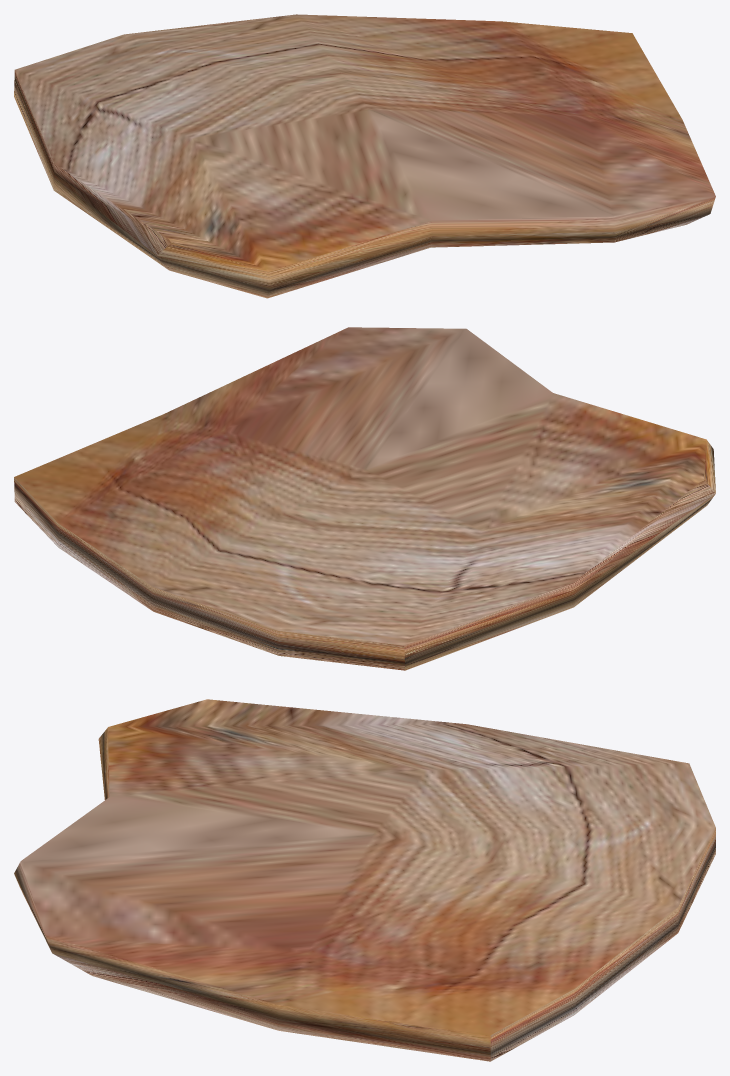
File: fluchtlevel_hindernis_flach.fbx
3 views of the same model, one above another, from view 1: azimuth 30°, elevation 25°; view 2: azimuth 150°, elevation 25°; view 3: azimuth 270°, elevation 25° (orthographic). The views are drawn at different scales.
Visible parts, largest first — view 1: Hindernis 4; view 2: Hindernis 4; view 3: Hindernis 4.
Part boxes in pixels (box(x1,y1,x2,y2)): Hindernis 4: box(14, 14, 715, 298); Hindernis 4: box(14, 327, 715, 670); Hindernis 4: box(14, 699, 715, 1061).
Bounding box in the file's own units: 82.64 × 9.84 × 81.31.
1 material, 1 textured.
